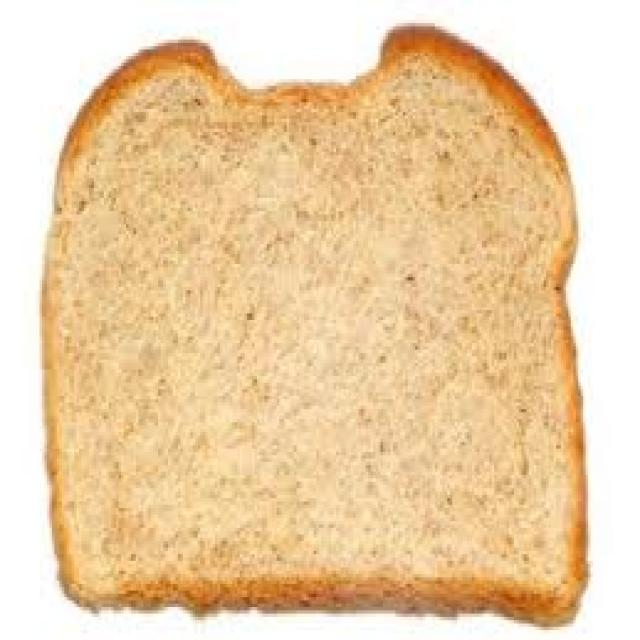bread: (28, 13, 606, 637)
